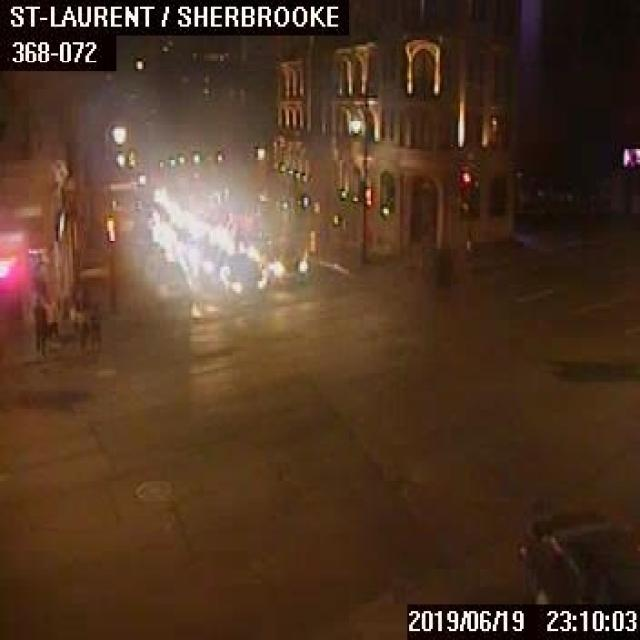construction: (307, 229, 315, 251)
pedestrian: (69, 298, 88, 350), (31, 294, 44, 354), (42, 294, 57, 339), (89, 301, 100, 351)
vehicle: (515, 498, 638, 602), (260, 242, 306, 284), (219, 256, 265, 297)
